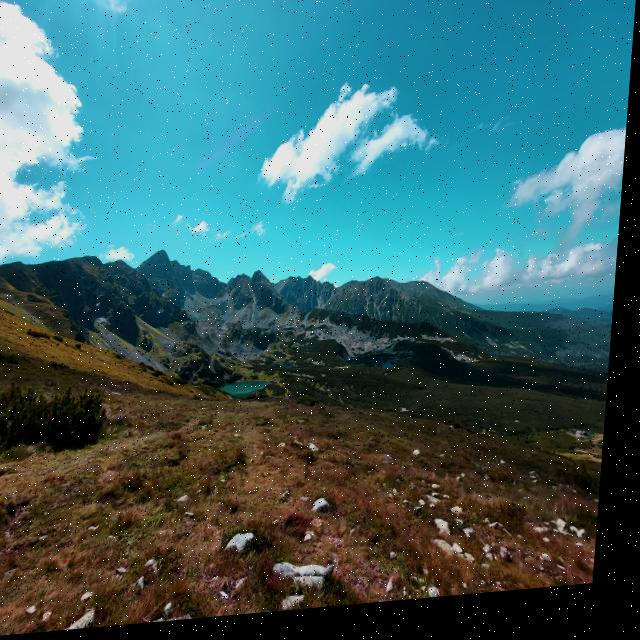Koscielec: (219, 235, 290, 318)
Skrajny i Posredni Granat: (267, 239, 348, 319)
Swinica: (121, 205, 203, 299)
